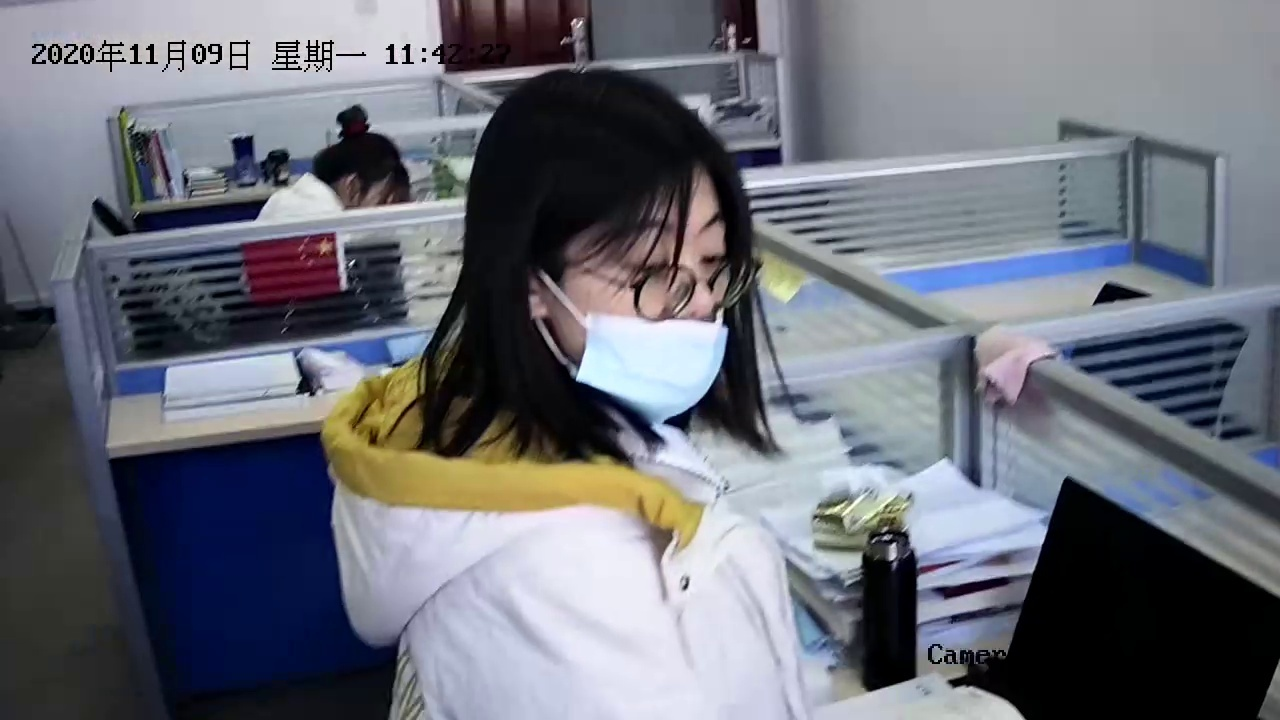mask: (482, 93, 727, 424)
